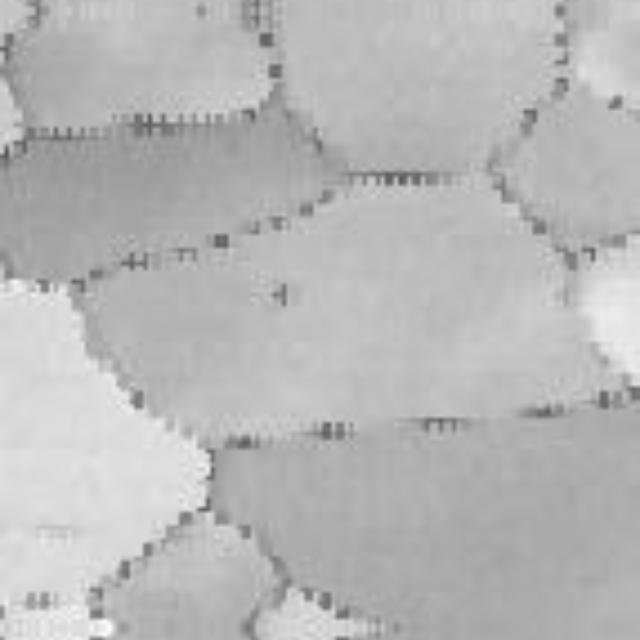good_void: (268, 283, 290, 311)
